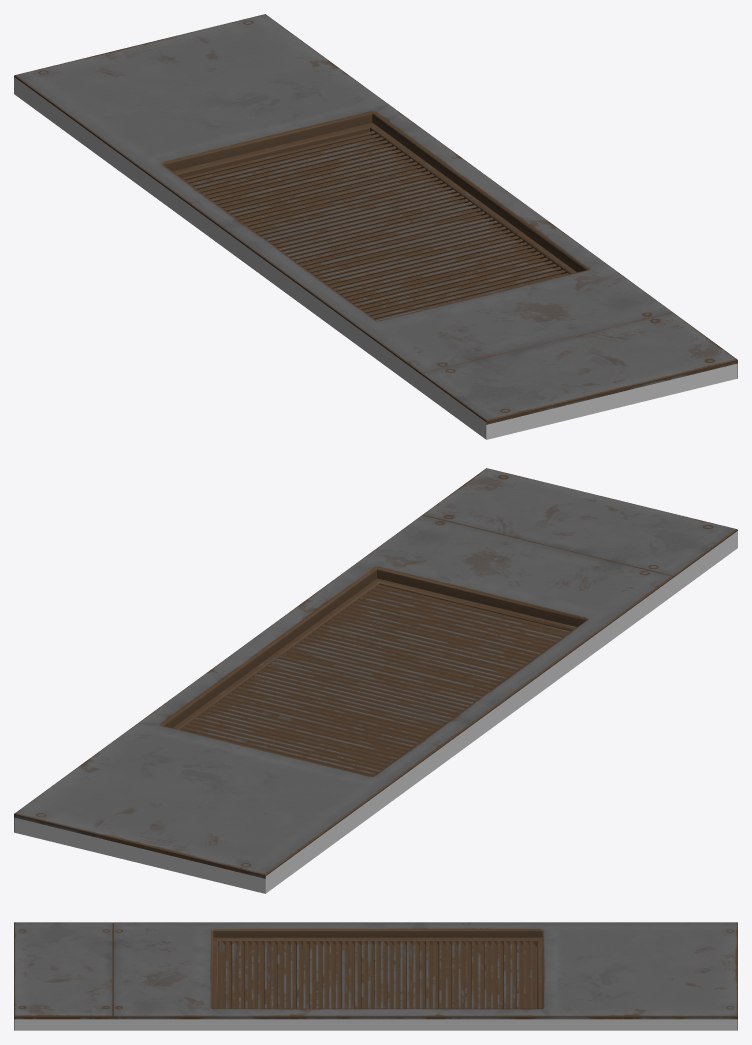
Rendered from SM_CorridorRoofSet05.fbx.
3 views of the same model, one above another, from view 1: azimuth 30°, elevation 25°; view 2: azimuth 150°, elevation 25°; view 3: azimuth 270°, elevation 25° (orthographic). The views are drawn at different scales.
Visible parts, largest first — view 1: SM_CorridorRoofSet05_LOD0; view 2: SM_CorridorRoofSet05_LOD0; view 3: SM_CorridorRoofSet05_LOD0.
Boxes of the visible parts, box(x1,y1,x2,y2) form: SM_CorridorRoofSet05_LOD0: box(14, 14, 737, 439); SM_CorridorRoofSet05_LOD0: box(14, 468, 737, 893); SM_CorridorRoofSet05_LOD0: box(14, 922, 737, 1030).
Size of the model in its own units: 80 by 260 by 5.81.
Materials: 2 (1 with a texture image).
